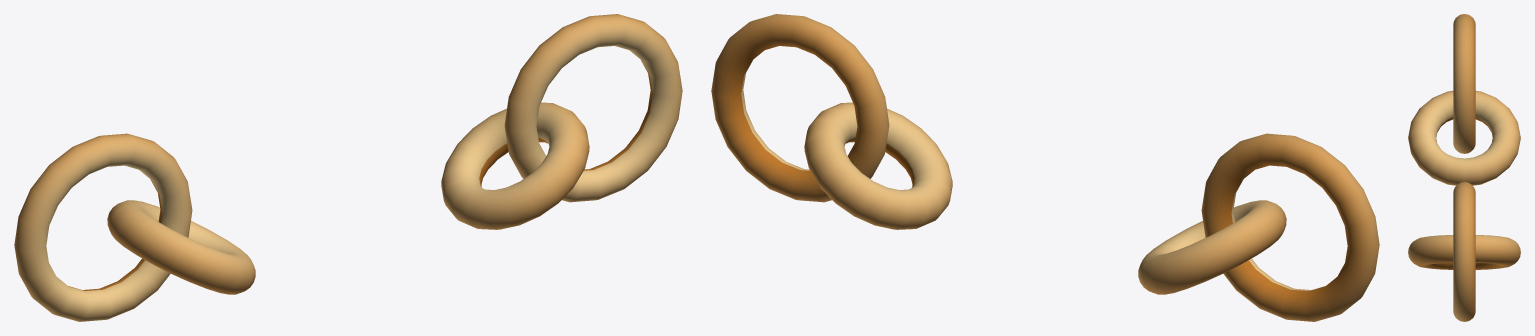
The model's file is hashigo_m_c.fbx.
The picture shows the model from 3 angles, left to right: view 1: azimuth 30°, elevation 25°; view 2: azimuth 150°, elevation 25°; view 3: azimuth 270°, elevation 25°; orthographic projection. The views are drawn at different scales.
Parts seen in each view (by area): view 1: d3; view 2: d3; view 3: d3.
Part boxes in pixels (left/top/right/bottom): d3: left=14, top=14, right=682, bottom=321; d3: left=711, top=14, right=1379, bottom=321; d3: left=1408, top=14, right=1520, bottom=321.
Size of the model in its own units: 19.09 by 5 by 4.
Materials: 1 (1 with a texture image).
